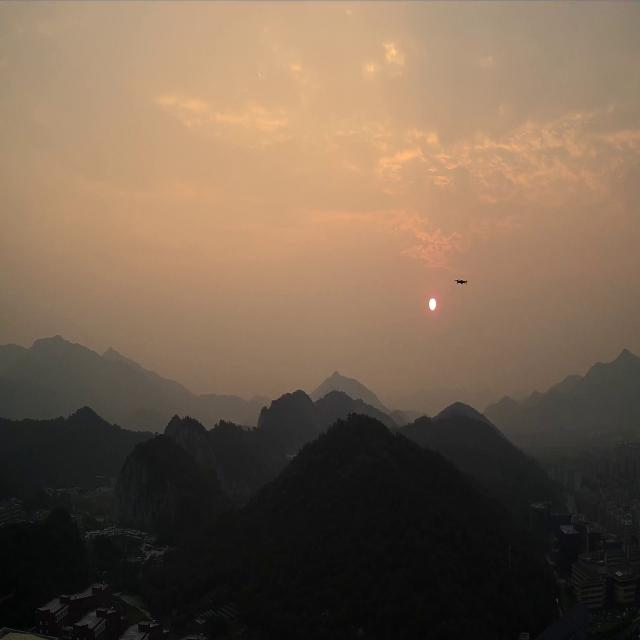UAV: (454, 278, 468, 286)
